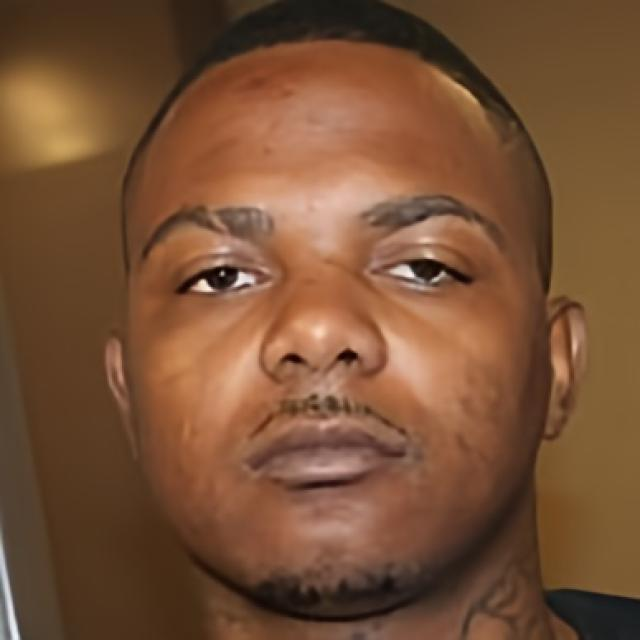neutral: (118, 45, 548, 620)
